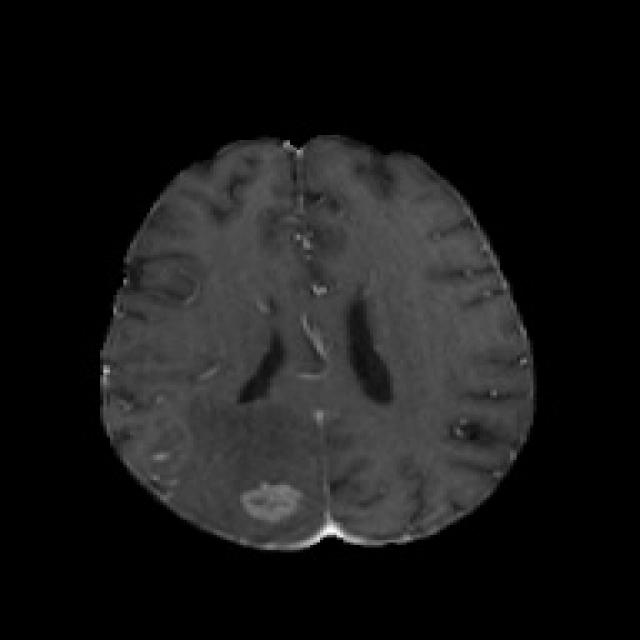negative: (237, 477, 310, 525)
